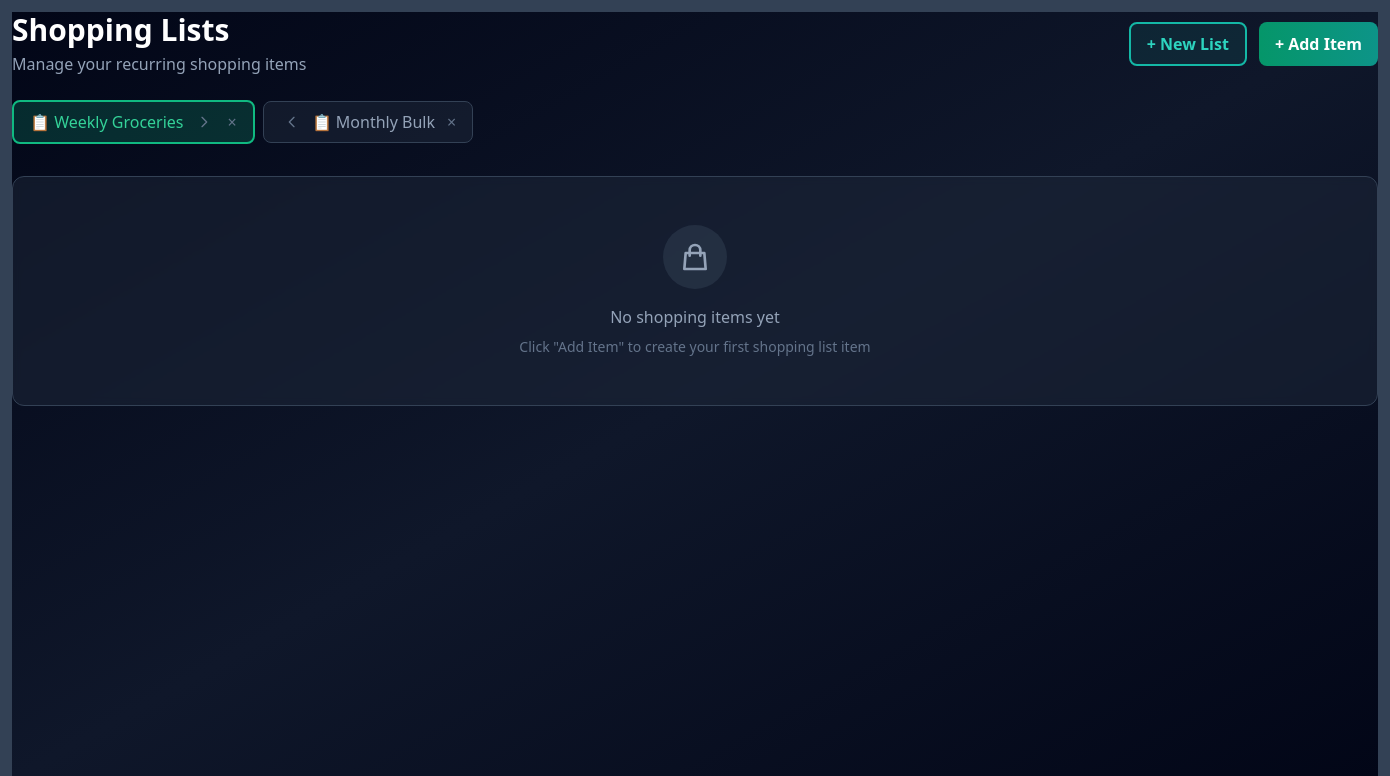
Test: ShoppingManager Component › Form Controls › should cancel add item form
Click the button "+ Add Item".
click(1318, 44)  # box [1259,22,1378,66]
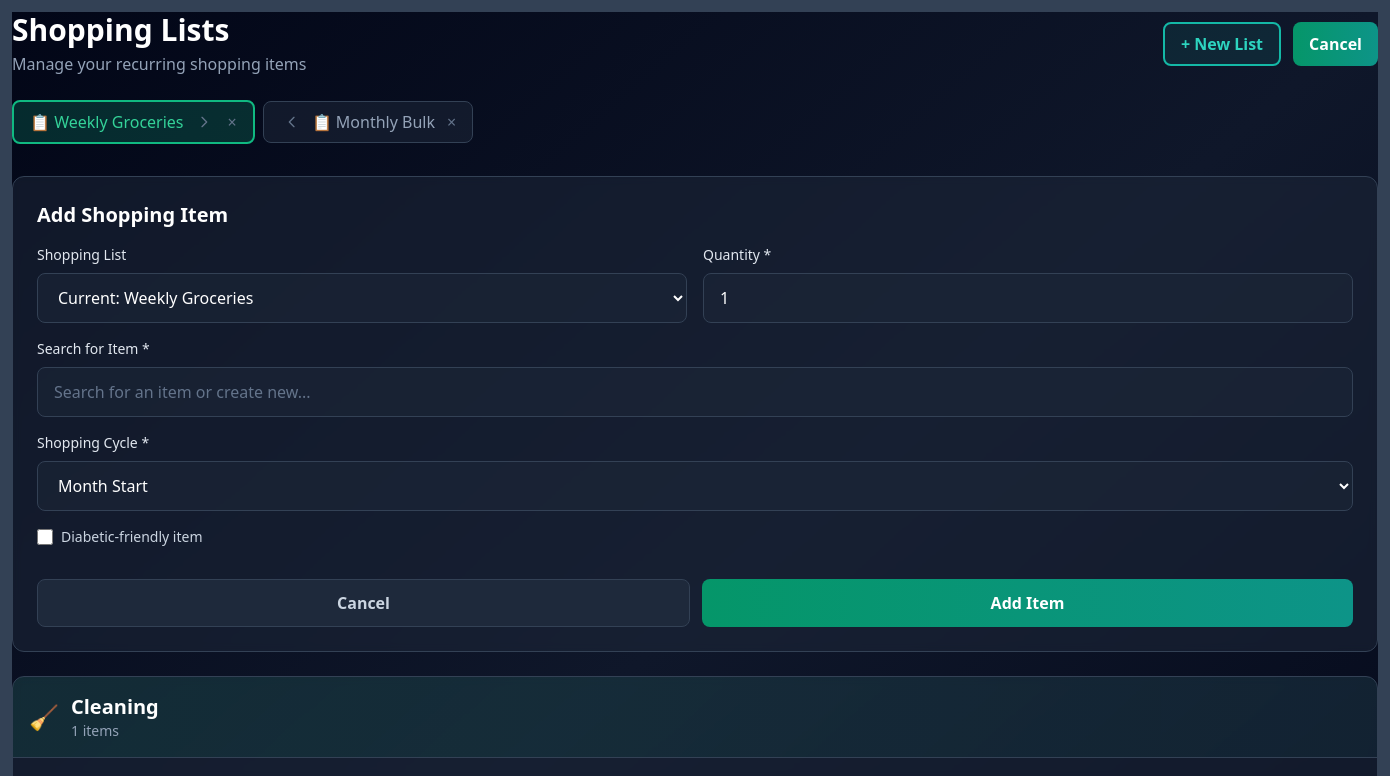
Expected: the heading "Add Shopping Item" is shown, [37,201,228,228]
Click the button "Cancel" below "Diabetic-friendly item".
click(364, 603)  # box [37,579,690,627]
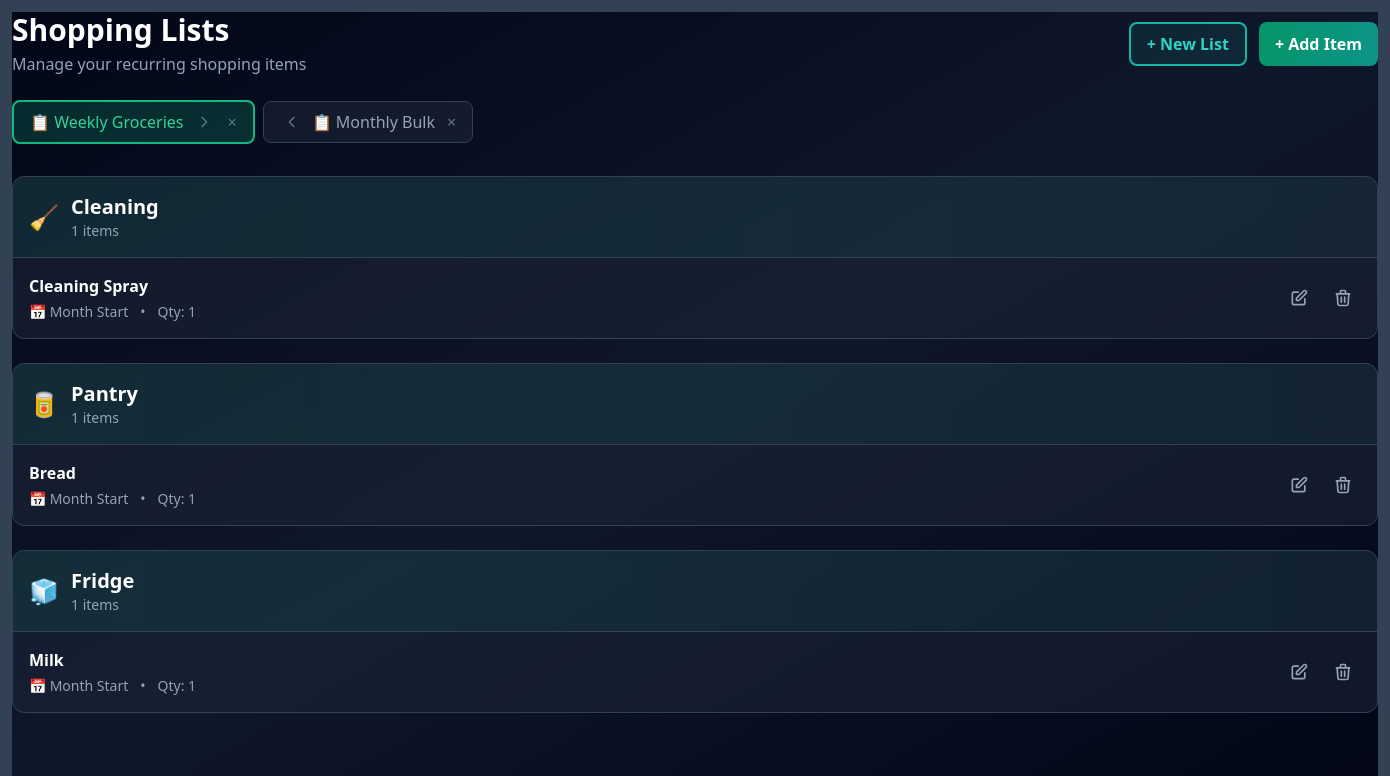
Expected: the heading "Add Shopping Item" is gone
